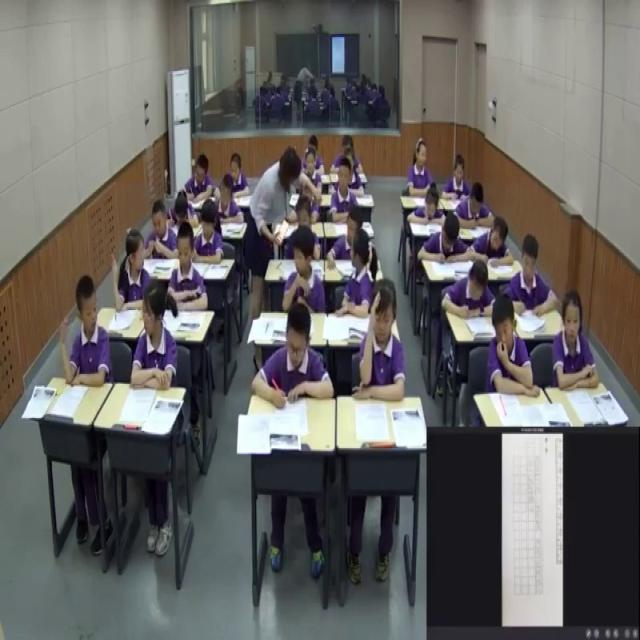distracted: (488, 297, 543, 408), (336, 226, 379, 326), (281, 228, 328, 318), (407, 138, 436, 200)
focused: (252, 304, 339, 414), (554, 286, 600, 392), (506, 232, 556, 318), (170, 226, 211, 314), (443, 261, 498, 321), (416, 214, 466, 268), (466, 217, 514, 268), (327, 206, 367, 267), (207, 175, 246, 235), (294, 196, 326, 264), (195, 198, 224, 265), (454, 181, 500, 222), (406, 183, 446, 230), (146, 201, 177, 259), (442, 155, 474, 201), (331, 164, 360, 214), (184, 152, 213, 199), (225, 149, 252, 199), (167, 186, 197, 227), (301, 148, 324, 197)
raising_hand: (356, 279, 409, 405), (61, 275, 112, 388), (132, 280, 178, 394), (110, 221, 155, 309)
